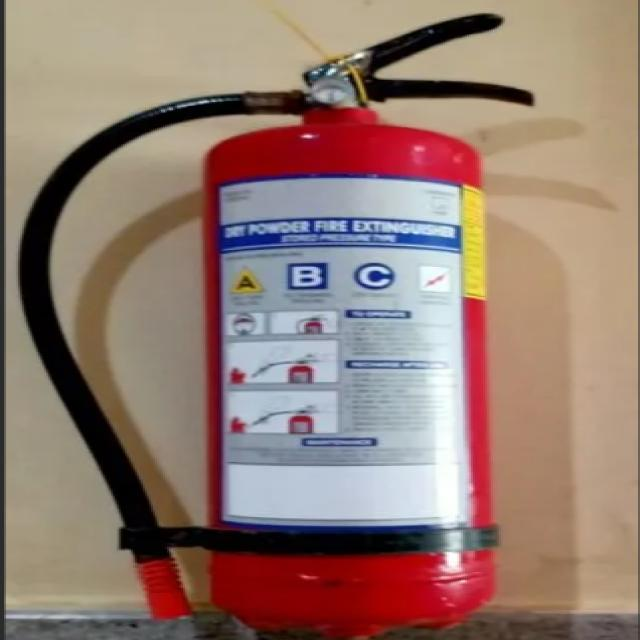fire extinguisher: (128, 22, 536, 632)
